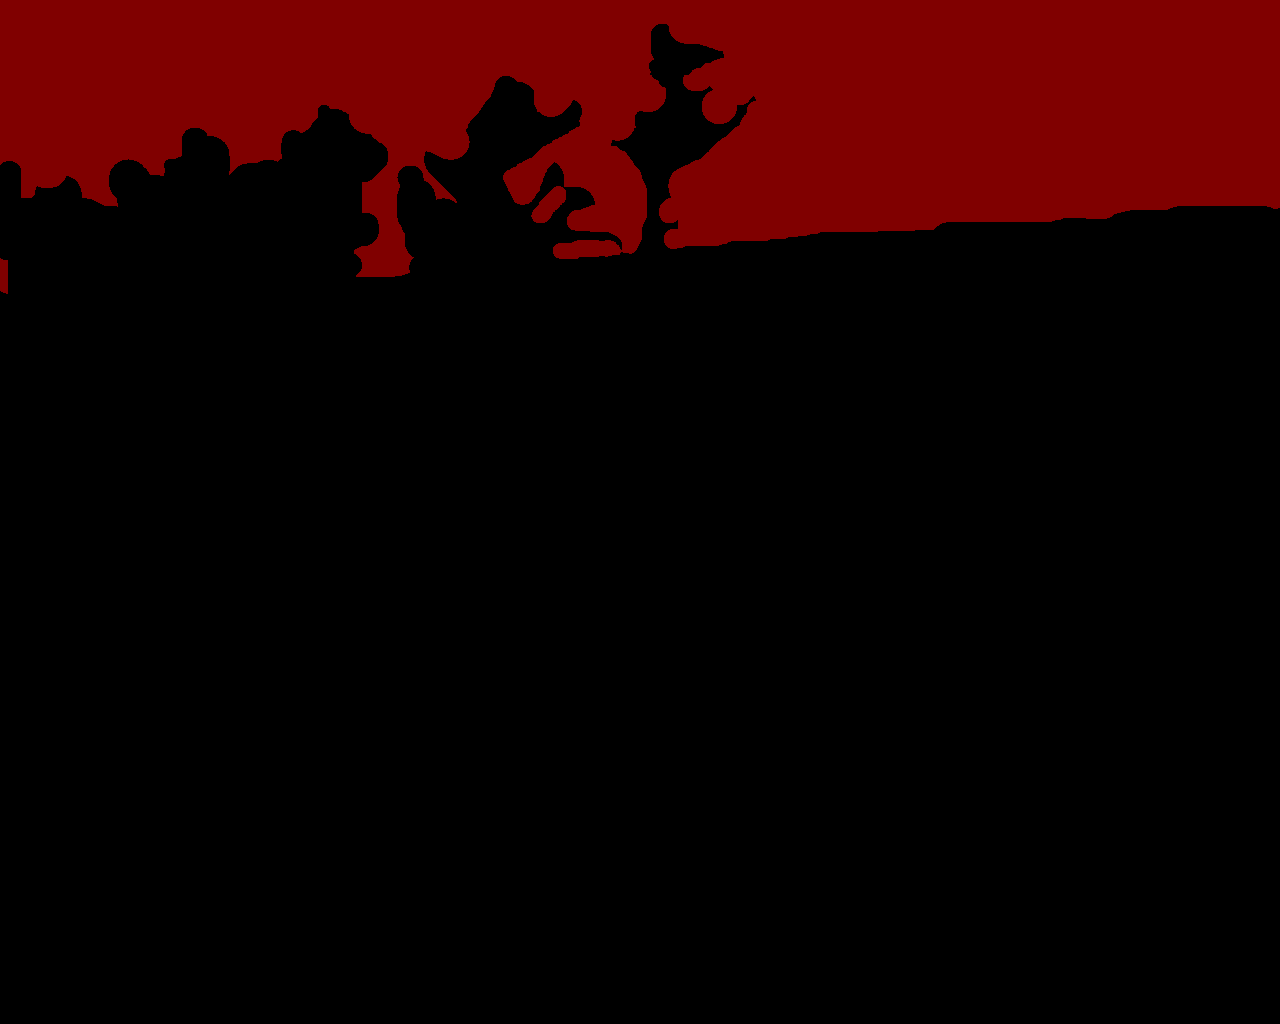Sky: (1, 1, 1279, 294)
